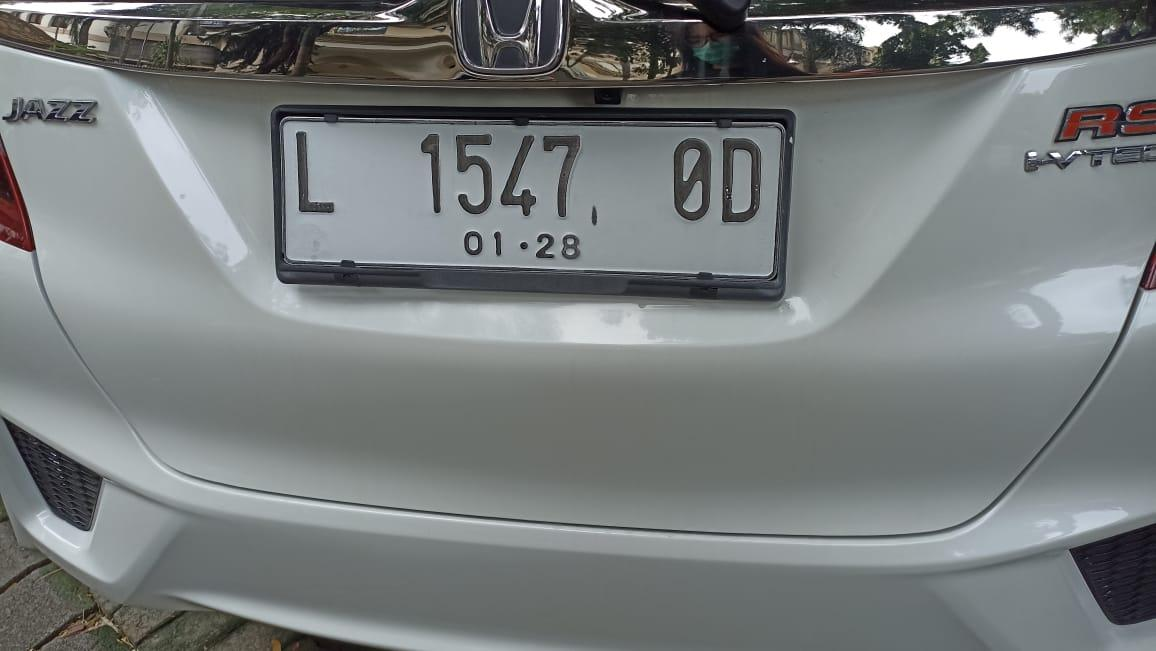plat: (273, 108, 792, 300)
